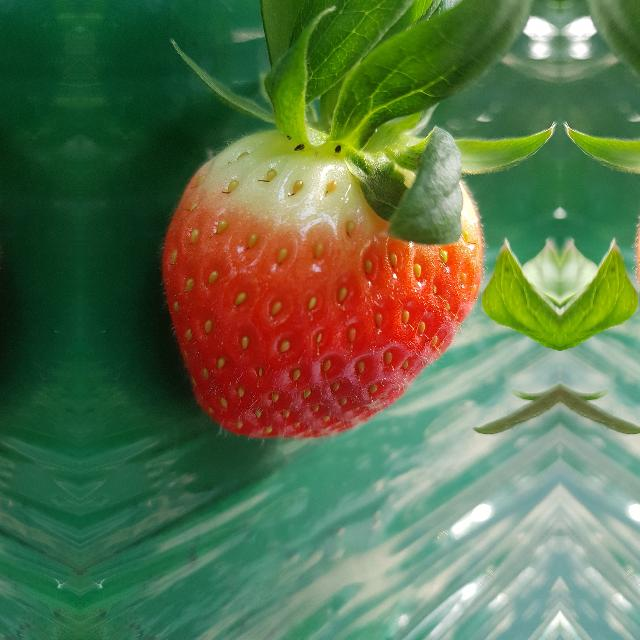Health_75: (159, 130, 485, 442)
